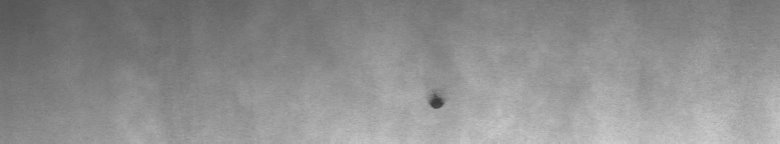fi: (424, 85, 449, 117)
